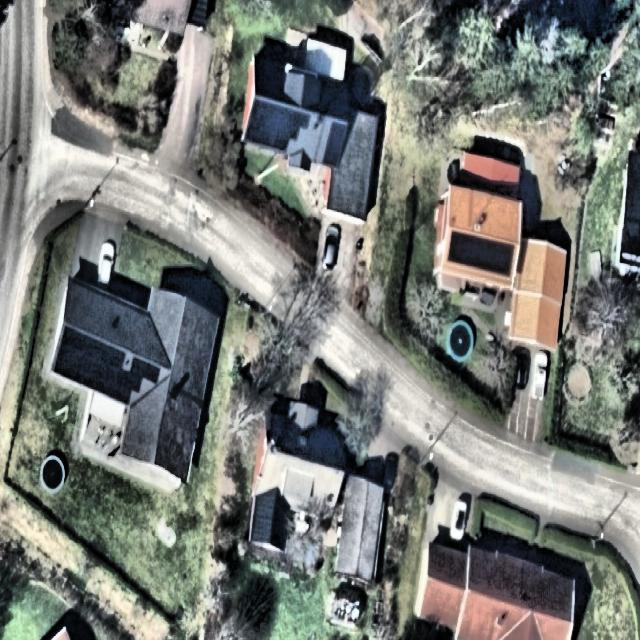roof_pv: (446, 230, 514, 278), (93, 336, 132, 406), (54, 326, 93, 390), (246, 98, 274, 152), (323, 122, 350, 172), (131, 356, 162, 396), (275, 104, 313, 135), (273, 136, 289, 154)
